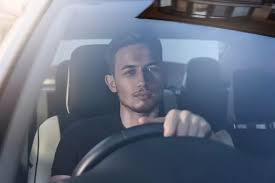Awake: (103, 30, 172, 118)
